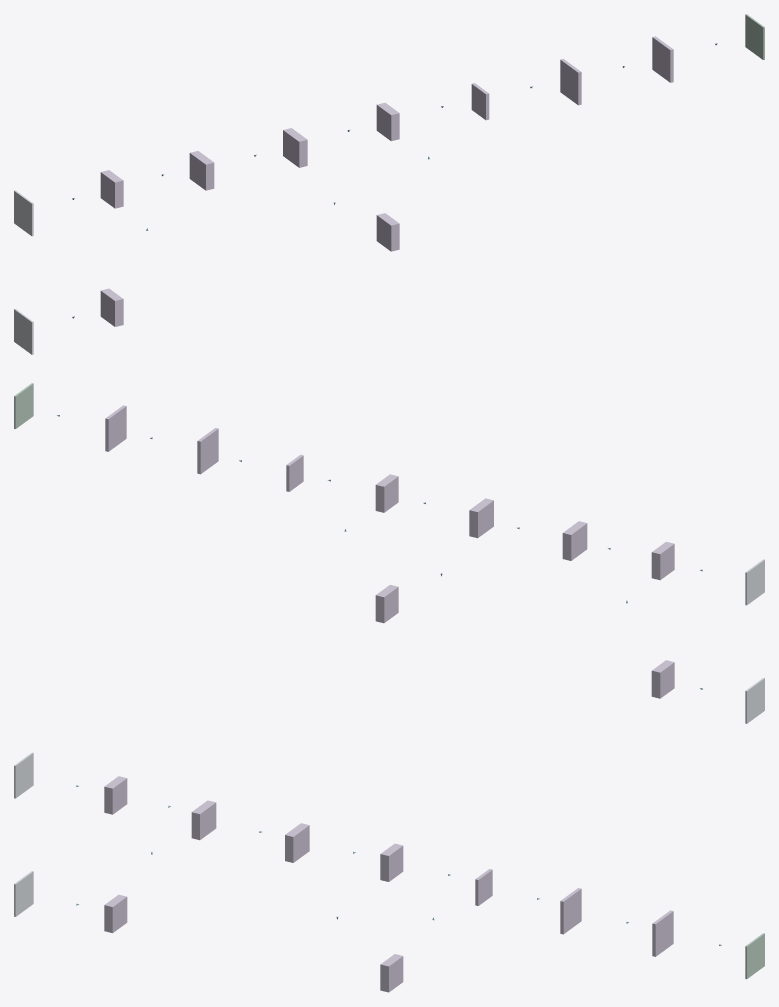
The model's file is stanet.glb.
3 renders of one model, top to bottom at view 1: azimuth 30°, elevation 25°; view 2: azimuth 150°, elevation 25°; view 3: azimuth 330°, elevation 25°, orthographic.
Parts seen in each view (by area): view 1: Shared FCN · 64×64×64 (×2), Concat width · 64×64×128, PAM 1,2,4,8 · 64×64×128, Threshold >1 · 1×256×256, Bilinear x4 · 1×256×256, Split date B · 64×64×64, Split date A · 64×64×64, Date A / RGB · 3×256×256, Date B / RGB · 3×256×256, Change mask · 1×256×256; view 2: Shared FCN · 64×64×64 (×2), Concat width · 64×64×128, PAM 1,2,4,8 · 64×64×128, Threshold >1 · 1×256×256, Bilinear x4 · 1×256×256, Split date A · 64×64×64, Split date B · 64×64×64, Date A / RGB · 3×256×256, Date B / RGB · 3×256×256, Change mask · 1×256×256; view 3: Shared FCN · 64×64×64 (×2), Concat width · 64×64×128, PAM 1,2,4,8 · 64×64×128, Threshold >1 · 1×256×256, Bilinear x4 · 1×256×256, Split date B · 64×64×64, Split date A · 64×64×64, Date A / RGB · 3×256×256, Change mask · 1×256×256, Date B / RGB · 3×256×256, L2 distance · 1×64×64.
Part boxes in pixels (<box>): Shared FCN · 64×64×64 (×2): <box>100,170,123,326</box>; Concat width · 64×64×128: <box>189,151,214,190</box>; PAM 1,2,4,8 · 64×64×128: <box>283,128,307,167</box>; Threshold >1 · 1×256×256: <box>652,36,673,82</box>; Bilinear x4 · 1×256×256: <box>560,59,581,105</box>; Split date B · 64×64×64: <box>376,213,399,251</box>; Split date A · 64×64×64: <box>376,102,399,141</box>; Date A / RGB · 3×256×256: <box>14,190,33,236</box>; Date B / RGB · 3×256×256: <box>14,309,33,354</box>; Change mask · 1×256×256: <box>745,14,764,59</box>; Shared FCN · 64×64×64 (×2): <box>651,541,674,698</box>; Concat width · 64×64×128: <box>562,521,587,560</box>; PAM 1,2,4,8 · 64×64×128: <box>469,498,493,538</box>; Threshold >1 · 1×256×256: <box>105,405,126,451</box>; Bilinear x4 · 1×256×256: <box>197,428,218,474</box>; Split date A · 64×64×64: <box>375,474,398,512</box>; Split date B · 64×64×64: <box>375,585,398,623</box>; Date A / RGB · 3×256×256: <box>745,559,764,605</box>; Date B / RGB · 3×256×256: <box>745,678,764,723</box>; Change mask · 1×256×256: <box>14,383,33,428</box>; Shared FCN · 64×64×64 (×2): <box>104,776,127,933</box>; Concat width · 64×64×128: <box>191,800,216,840</box>; PAM 1,2,4,8 · 64×64×128: <box>285,823,309,862</box>; Threshold >1 · 1×256×256: <box>652,910,673,956</box>; Bilinear x4 · 1×256×256: <box>560,888,581,934</box>; Split date B · 64×64×64: <box>380,954,403,992</box>; Split date A · 64×64×64: <box>380,843,403,881</box>; Date A / RGB · 3×256×256: <box>14,752,33,798</box>; Change mask · 1×256×256: <box>745,933,764,979</box>; Date B / RGB · 3×256×256: <box>14,871,33,916</box>; L2 distance · 1×64×64: <box>475,869,492,905</box>.
Size of the model in its own units: 79.16 by 15.6 by 3.37.
